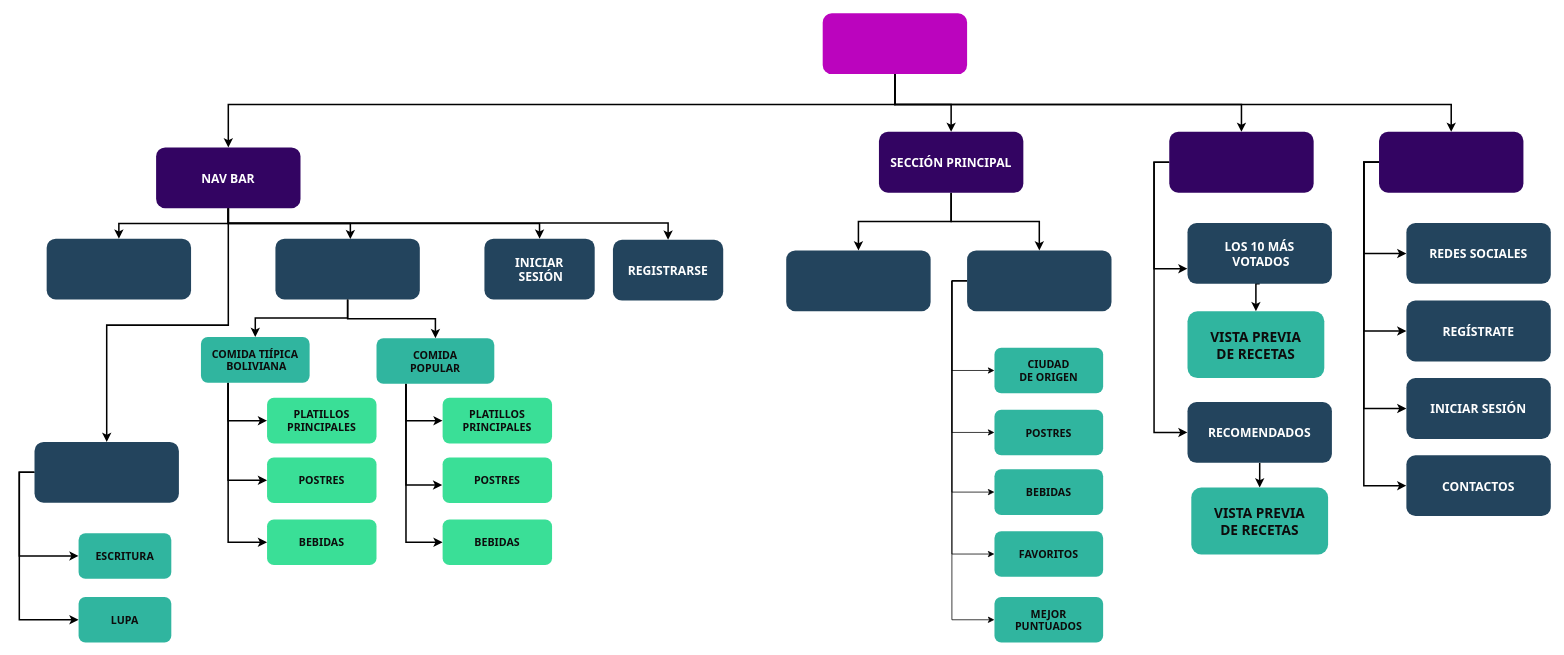
Image size: 1564x655. Some labels were removed from this diagram. Here are the shapes that lost their labels. From the top down, the box of each, then its label:
(822, 13, 967, 74): HOME
(1169, 131, 1313, 192): RECOMENDACIONES
(1379, 131, 1523, 192): FOOTER
(46, 238, 191, 299): LOGO Y NOMBRE
(275, 238, 419, 299): MENÚ
(786, 250, 930, 311): BIENVENIDA
(967, 250, 1111, 311): FILTROS
(34, 442, 179, 502): BUSCADOR
